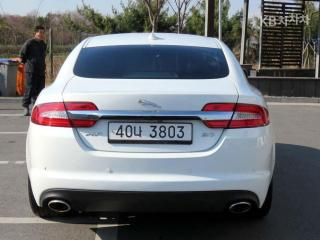0: (124, 124, 134, 140), (167, 125, 177, 139)
3: (148, 123, 158, 139), (176, 125, 186, 139)
4: (115, 124, 125, 138)
8: (158, 124, 167, 139)
plate: (100, 116, 204, 149)
나: (133, 125, 144, 138)
